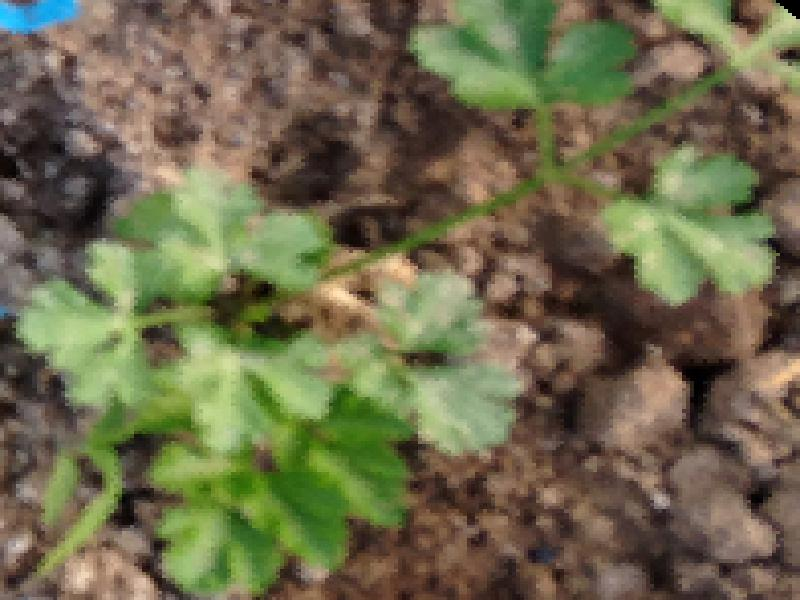radish: (0, 0, 559, 600)
